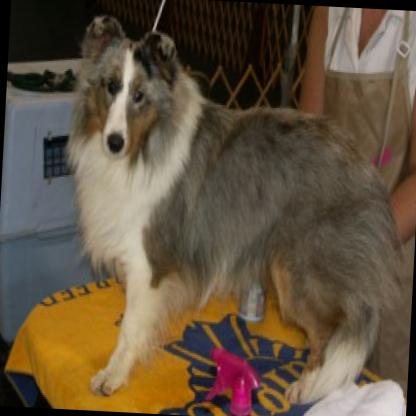Shetland_sheepdog: (52, 7, 416, 415)
